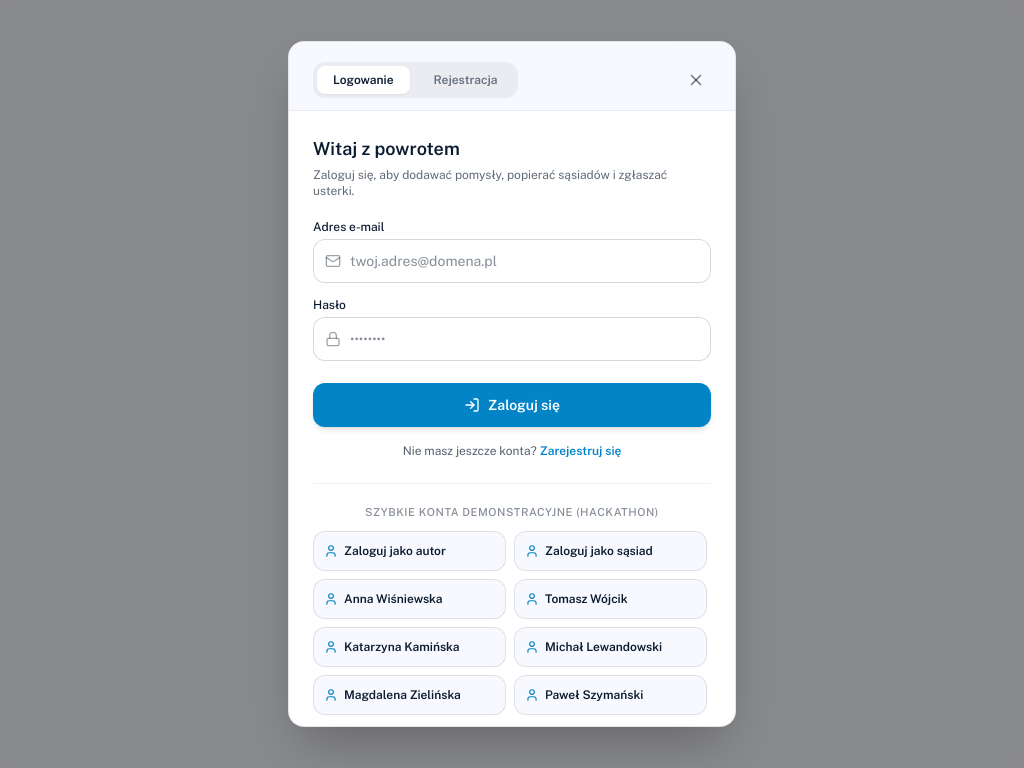
Test: AuthModal › renders login form by default and allows switching to registration
Expected: the heading "Witaj z powrotem" is shown, [313,138,460,159]
Expected: the field with placeholder "twoj.adres@domena.pl" is shown, [313,239,711,283]
# Switch to registration
Click the button "Rejestracja" at (466, 80), box [418,66,514,94]
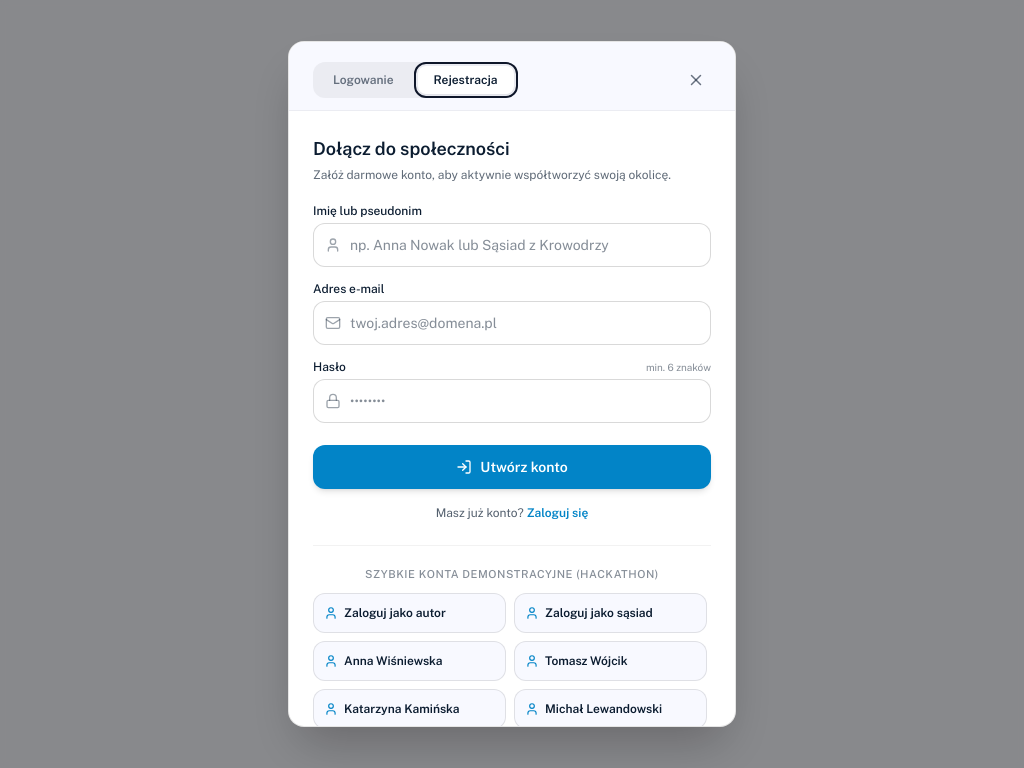
Expected: the heading "Dołącz do społeczności" is shown, [313,138,510,159]
Expected: the field with placeholder "np. Anna Nowak lub Sąsiad z Krowodrzy" is shown, [313,223,711,267]
Expected: the button "Utwórz konto" is shown, [313,445,711,489]
